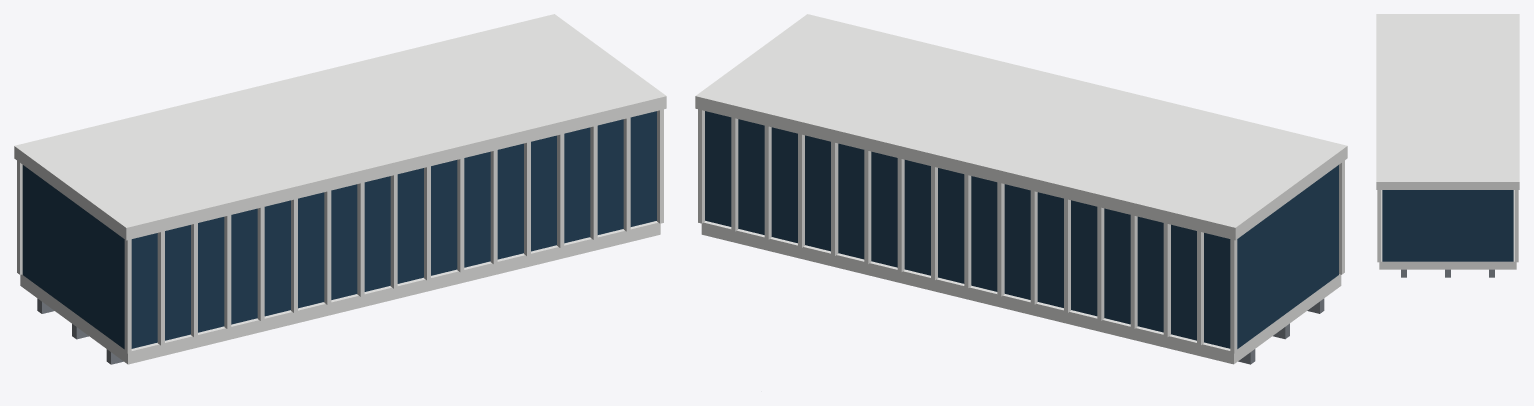
File: yas-hotel-puente.glb
3 renders of one model, left to right at view 1: azimuth 30°, elevation 25°; view 2: azimuth 150°, elevation 25°; view 3: azimuth 270°, elevation 25°, orthographic. The views are drawn at different scales.
Parts seen in each view (by area): view 1: yas-hotel-puente; view 2: yas-hotel-puente; view 3: yas-hotel-puente.
Boxes of the visible parts, box(x1,y1,x2,y2) form: yas-hotel-puente: box(14, 14, 666, 364); yas-hotel-puente: box(695, 14, 1347, 364); yas-hotel-puente: box(1376, 14, 1519, 277).
Size of the model in its own units: 40.6 by 24 by 14.6.
